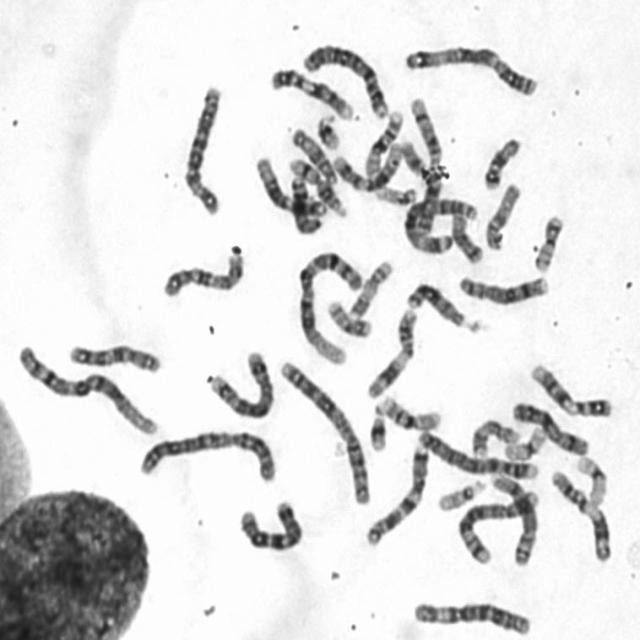A1: (13, 338, 161, 438), (294, 246, 366, 369)
A2: (275, 354, 374, 506), (134, 422, 280, 484)
A3: (399, 39, 542, 99), (399, 193, 482, 258)
B4: (298, 39, 392, 120), (412, 425, 540, 484)
B5: (453, 482, 541, 568), (204, 344, 277, 420)
C10: (158, 246, 246, 301), (65, 338, 164, 376)
C11: (547, 466, 615, 564), (362, 304, 421, 401)
C12: (251, 150, 329, 219), (330, 140, 404, 193)
C6: (181, 79, 226, 218), (408, 594, 534, 637)
C7: (360, 438, 430, 549), (234, 496, 306, 553)
C8: (486, 467, 540, 568), (454, 269, 552, 306)
C9: (526, 358, 615, 420), (266, 62, 356, 122)
D13: (404, 278, 482, 336), (284, 170, 326, 236)
D14: (284, 152, 351, 218), (406, 91, 444, 169)
D15: (286, 124, 340, 186), (482, 177, 524, 253)
E16: (373, 389, 444, 433), (363, 107, 407, 178)
E17: (344, 256, 394, 320), (468, 416, 522, 459)
E18: (481, 133, 523, 192), (448, 208, 486, 265)
F19: (572, 450, 610, 508), (500, 422, 549, 462)
F20: (530, 210, 568, 274), (323, 294, 373, 339)
G21: (312, 108, 342, 152), (365, 408, 389, 453)
G22: (433, 473, 489, 513), (372, 181, 419, 207)
X: (396, 135, 446, 242), (507, 397, 590, 457)
